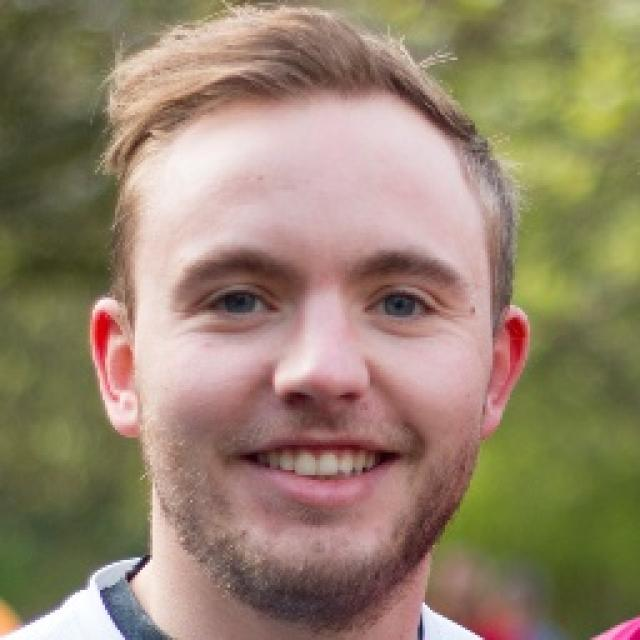earlobe: (88, 298, 142, 440), (479, 304, 531, 440)
